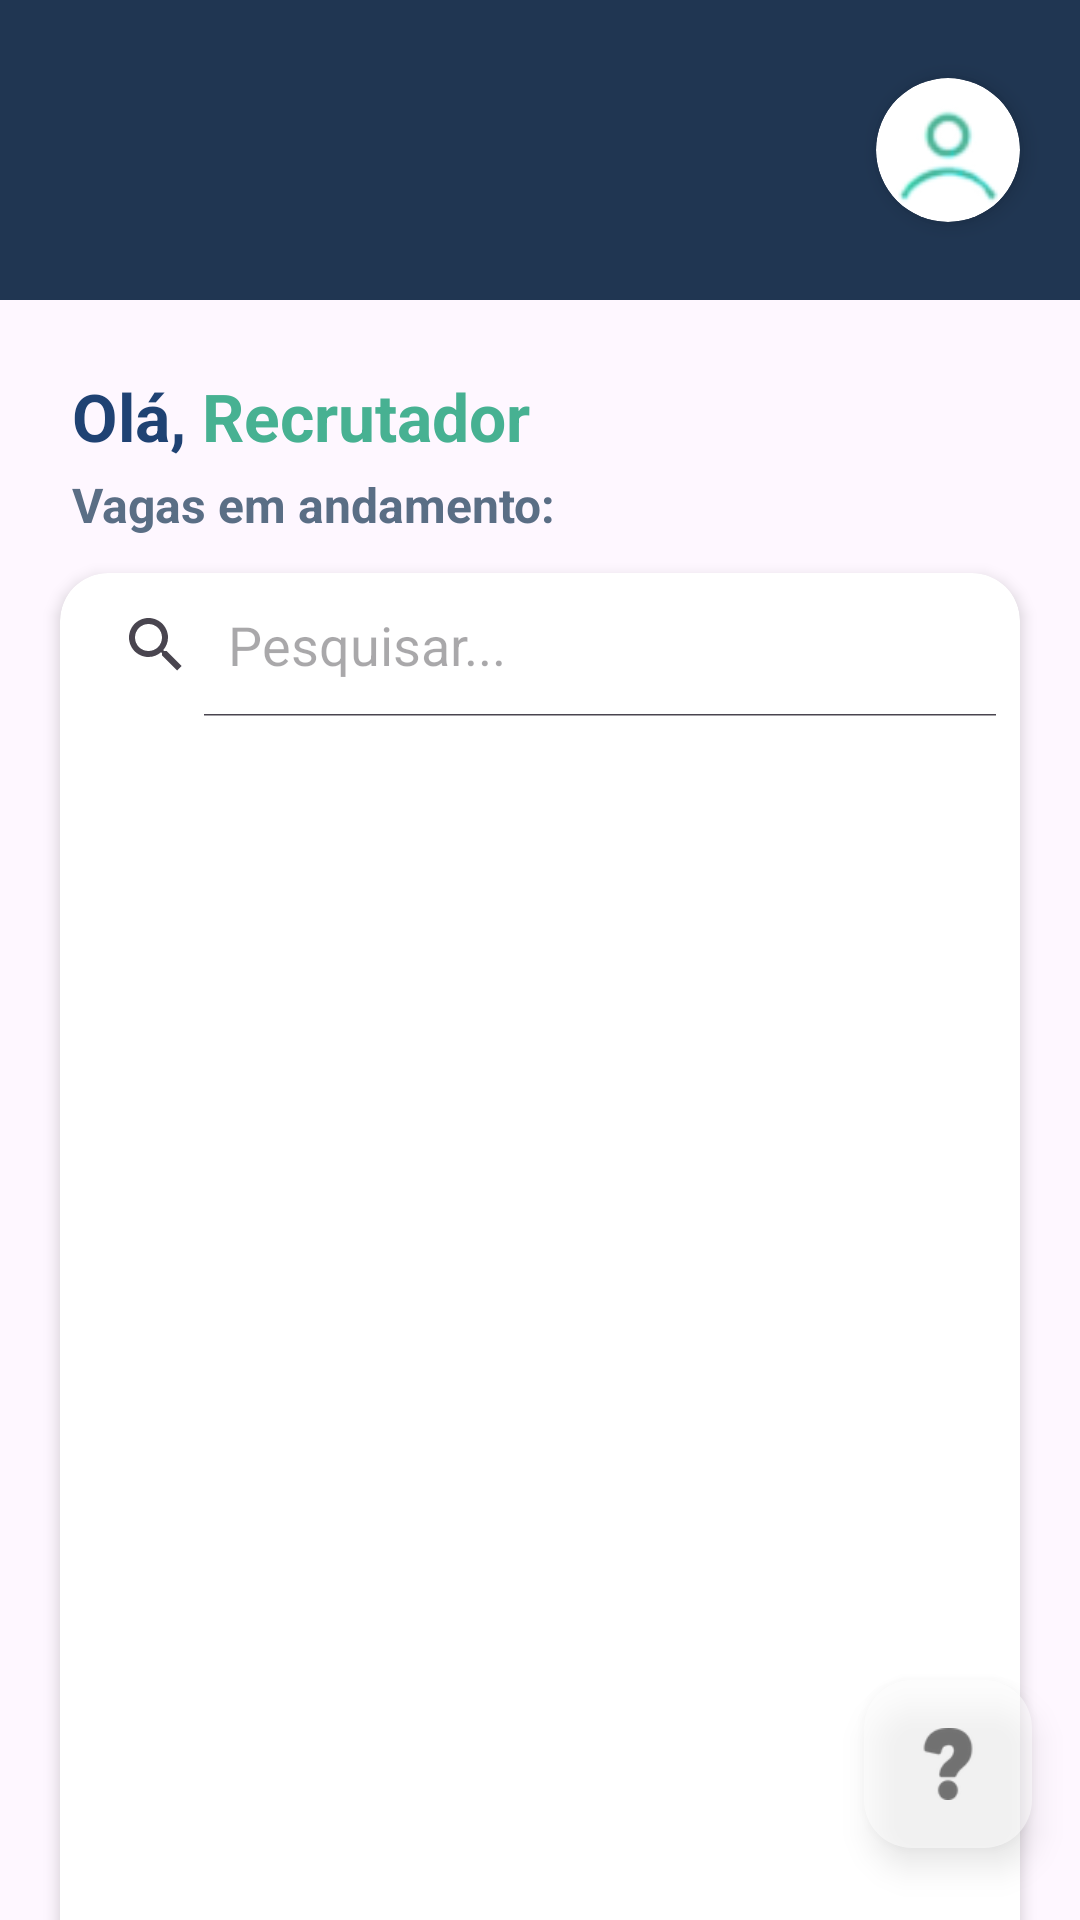

Icons on this 1080px×1920px Android screen, each with the point to tap as [x,y]:
Foto de Perfil: [948,150]
interrogacao: [977,1769]
